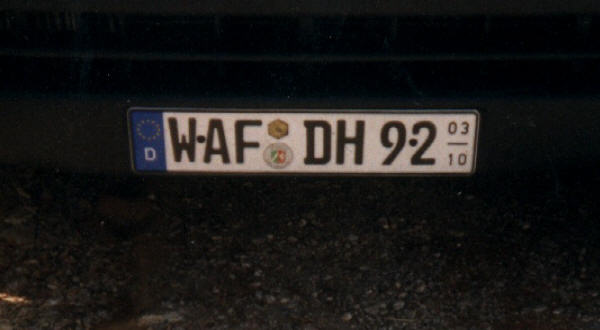license_plate: (127, 106, 480, 177)
